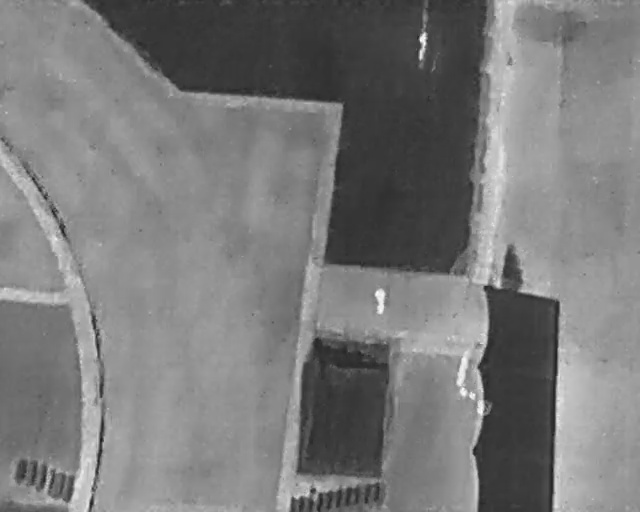Person: (452, 352, 473, 389), (373, 285, 388, 316), (417, 29, 428, 60)
